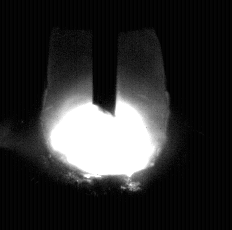arame: (93, 0, 118, 117)
poca: (39, 0, 168, 230)
